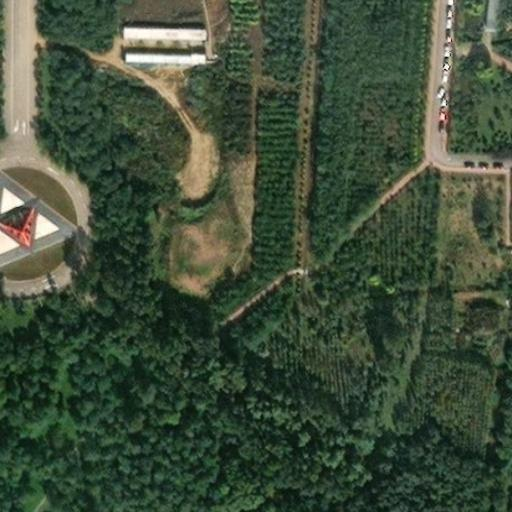building: (0, 173, 81, 267), (126, 47, 207, 62), (120, 26, 203, 38)
